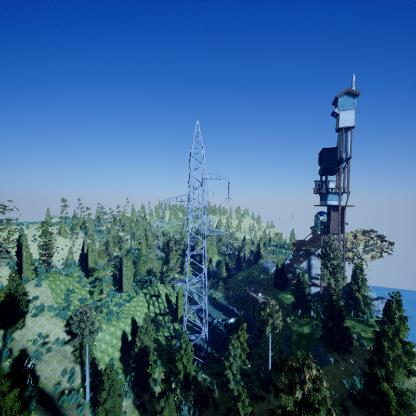tower: (154, 116, 235, 360)
